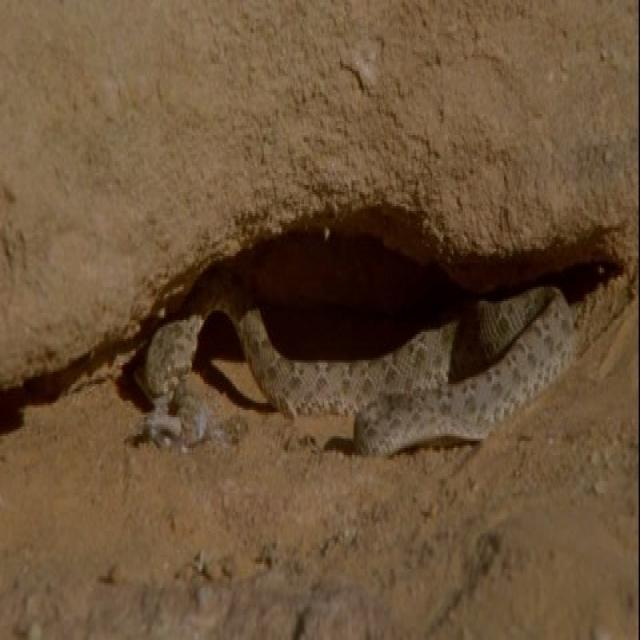Snake: (154, 206, 626, 459)
